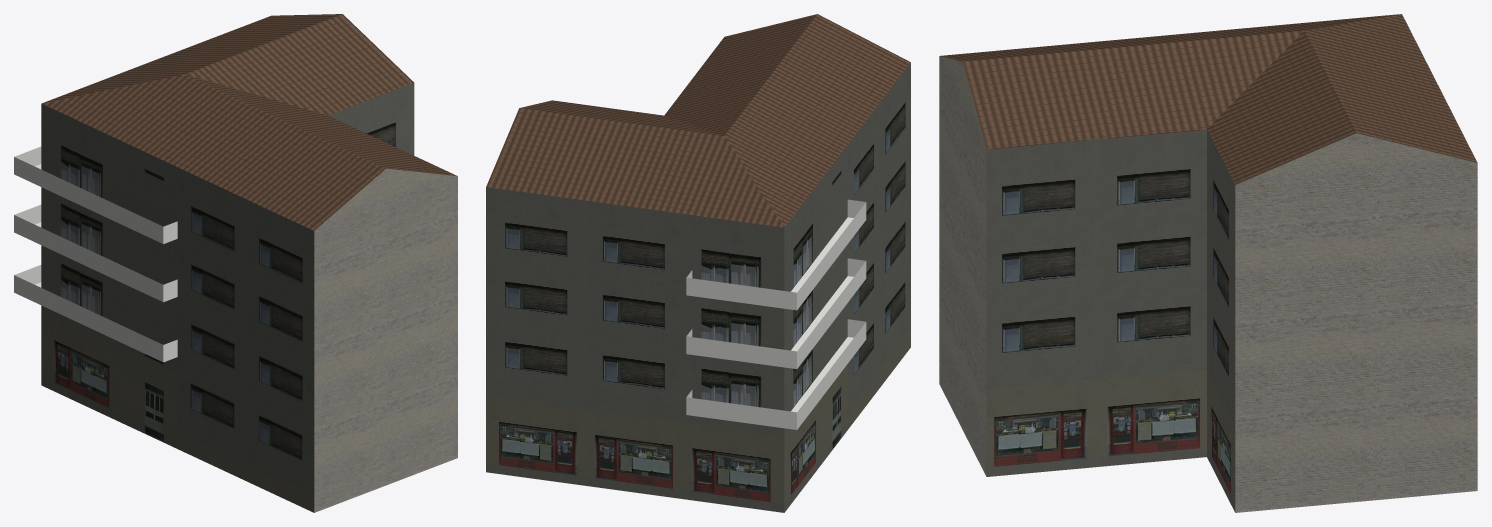
File: Building003.dae
3 views of the same model, side by side, from view 1: azimuth 30°, elevation 25°; view 2: azimuth 150°, elevation 25°; view 3: azimuth 270°, elevation 25° (orthographic). The views are drawn at different scales.
Visible parts, largest first — view 1: SketchUp (×12); view 2: SketchUp (×11); view 3: SketchUp (×5).
Boxes of the visible parts, left/top/right/bottom form: SketchUp (×12): left=14, top=14, right=457, bottom=512; SketchUp (×11): left=486, top=14, right=910, bottom=512; SketchUp (×5): left=939, top=14, right=1477, bottom=512.
Bounding box in the file's own units: 754 × 941 × 711.
8 materials, 8 textured.
